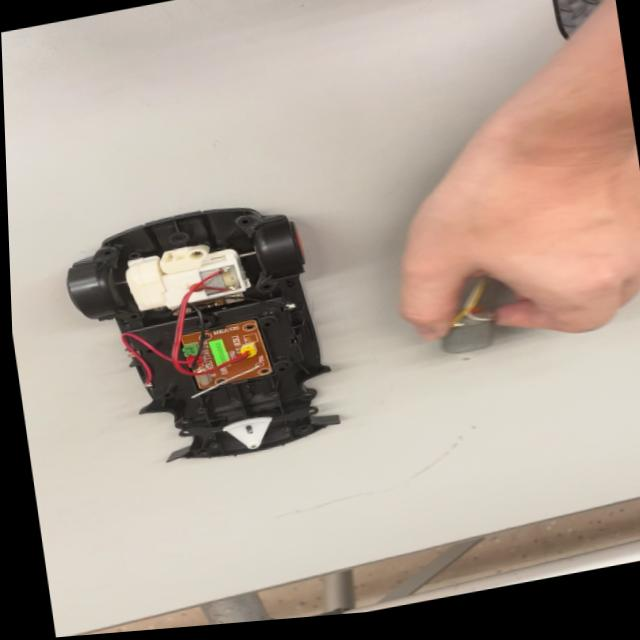Chassis: (87, 183, 344, 492)
motor: (429, 300, 503, 368)
